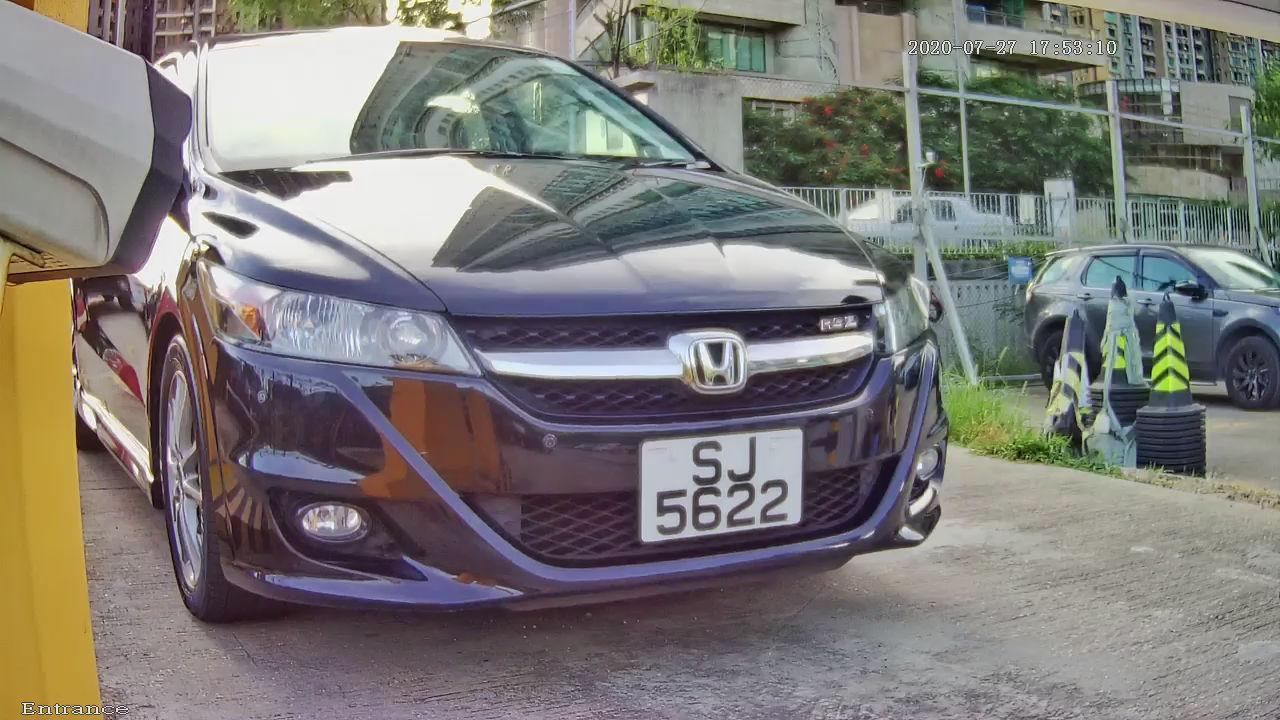privatecar: (46, 1, 1075, 688)
